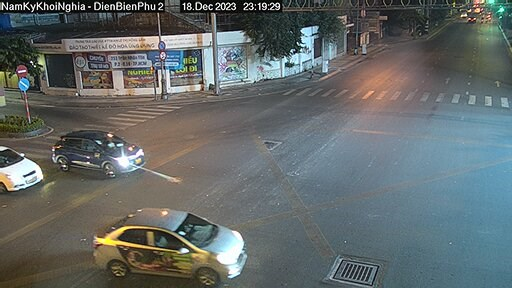car: (89, 199, 245, 284), (50, 116, 147, 172), (2, 137, 42, 197)
